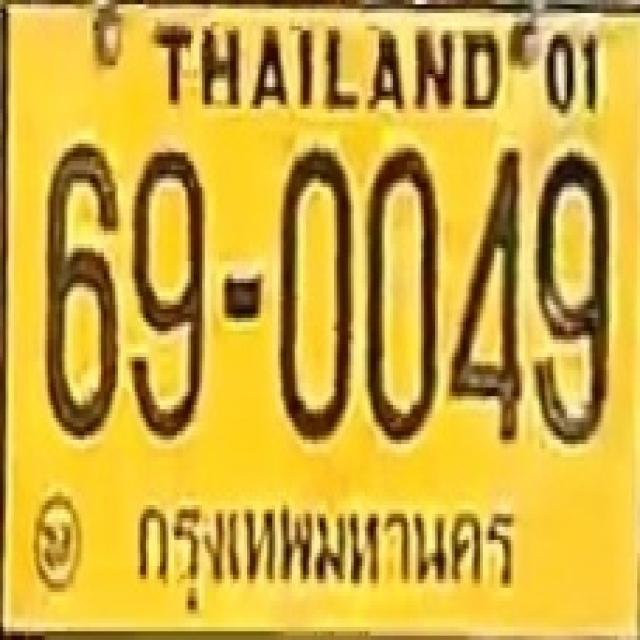0: (276, 143, 352, 440), (365, 143, 438, 440)
4: (446, 141, 522, 442)
6: (44, 140, 120, 436)
9: (532, 148, 610, 444), (128, 146, 204, 437)
BKK: (118, 474, 532, 619)
